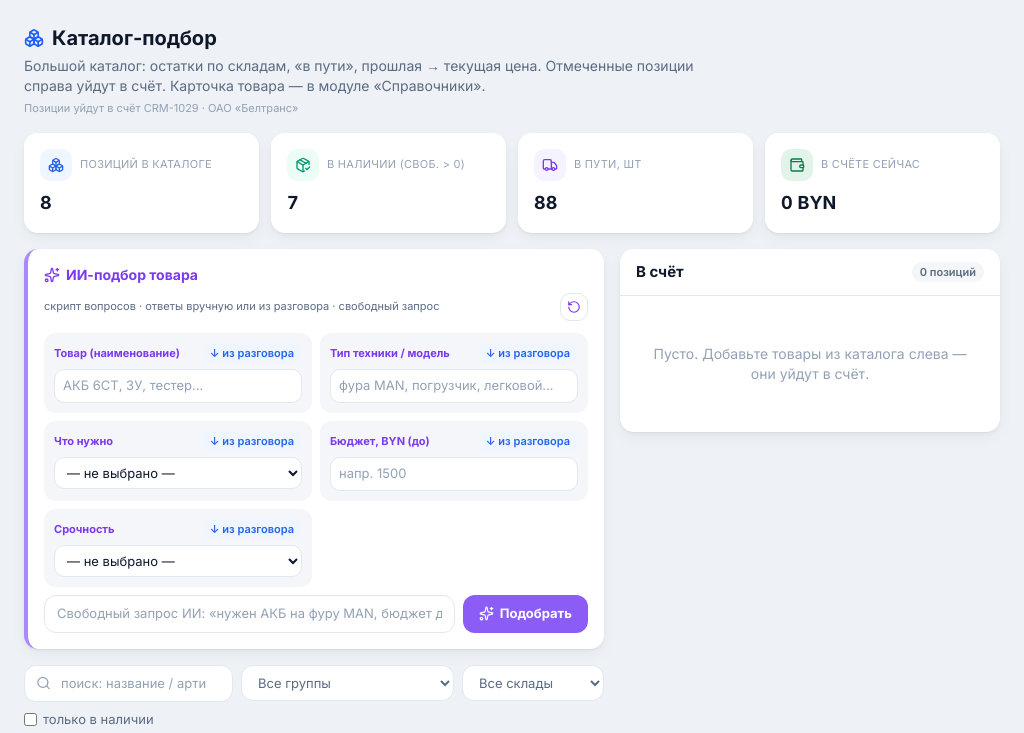
Scenario: CatalogPicker › ИИ-подбор без ввода просит уточнить задачу
This screenshot has width=1024, height=733.
Click the button "Подобрать" at (525, 614), box [463,595,588,632]
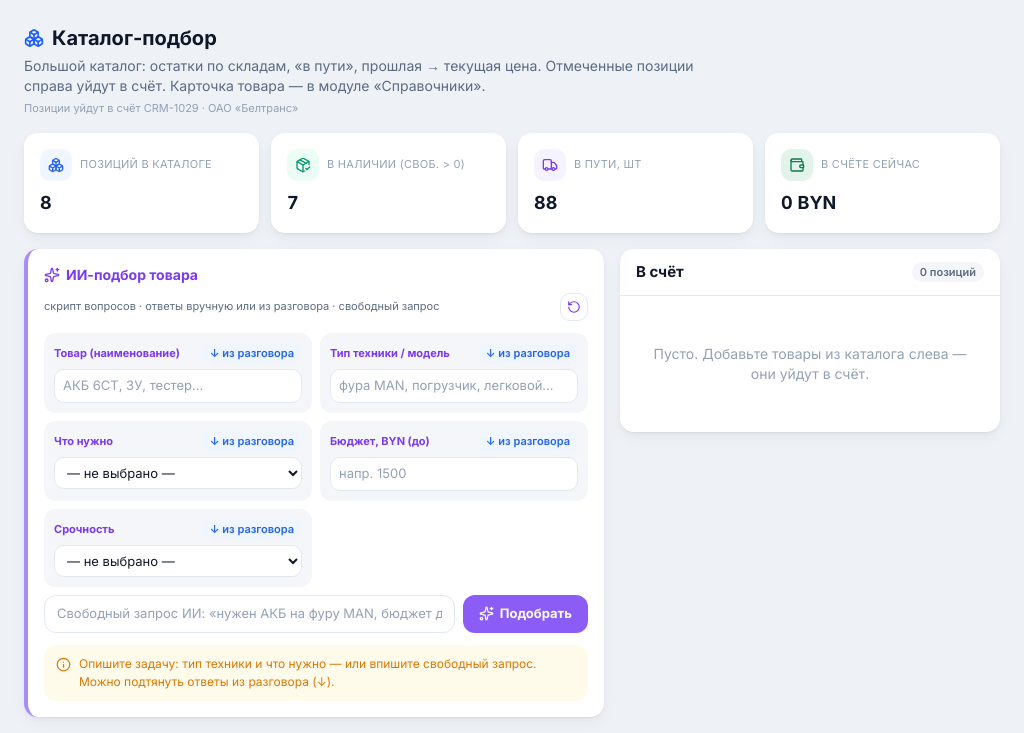
expect the text "Опишите задачу" is shown: met, box [79,656,536,688]
